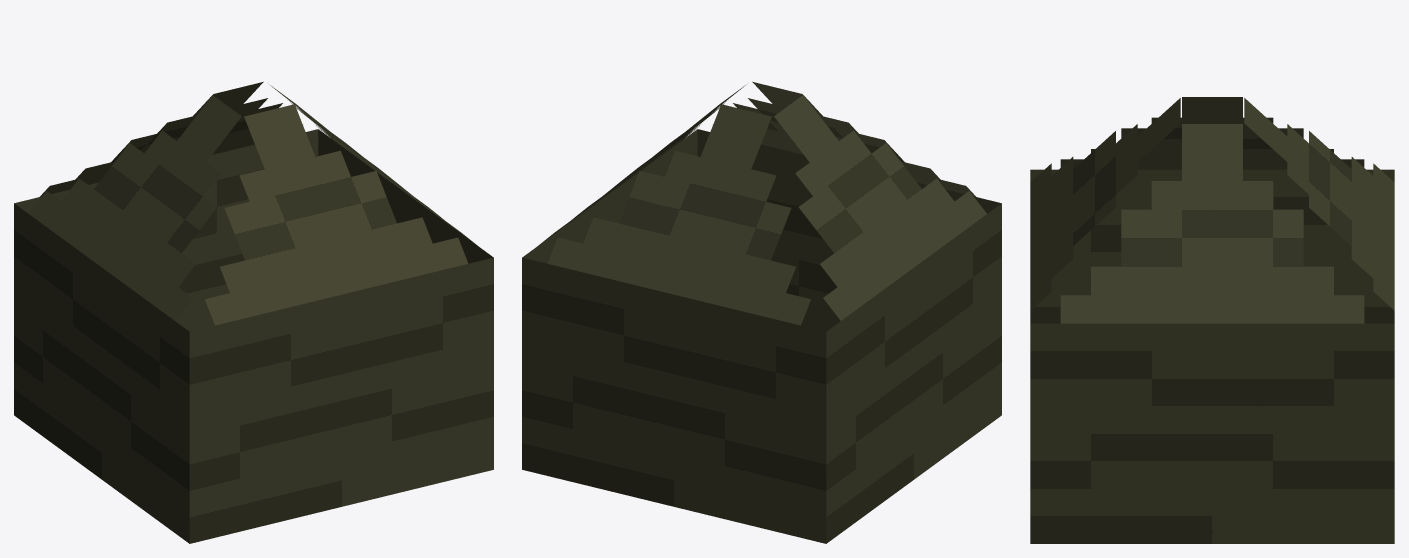
The model's file is sulfur_plant.obj.
The picture shows the model from 3 angles, left to right: view 1: azimuth 30°, elevation 25°; view 2: azimuth 150°, elevation 25°; view 3: azimuth 270°, elevation 25°; orthographic projection. The views are drawn at different scales.
Parts seen in each view (by area): view 1: cube; view 2: cube; view 3: cube.
Part boxes in pixels (left/top/right/bottom): cube: left=14, top=81, right=493, bottom=543; cube: left=522, top=81, right=1001, bottom=543; cube: left=1030, top=97, right=1394, bottom=543.
Size of the model in its own units: 0.75 by 0.8536 by 0.75.
